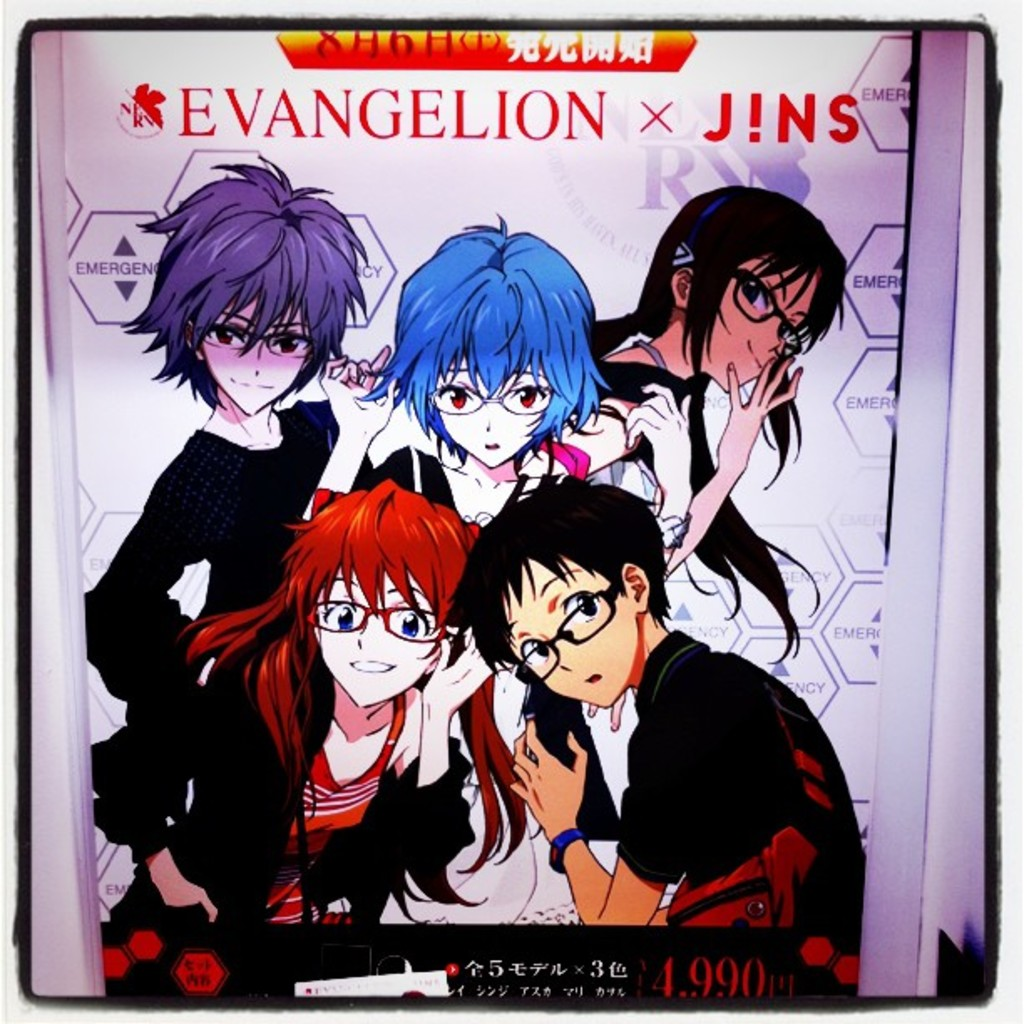Person: (74, 150, 370, 925), (300, 213, 609, 923), (445, 478, 868, 933), (589, 184, 846, 666)
